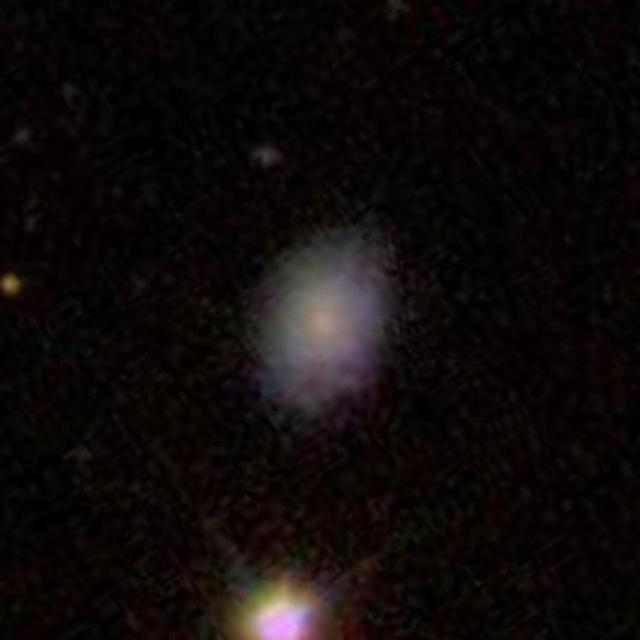galaxy: (242, 228, 396, 430), (246, 140, 284, 170), (1, 271, 23, 301)
star: (193, 521, 399, 640)
